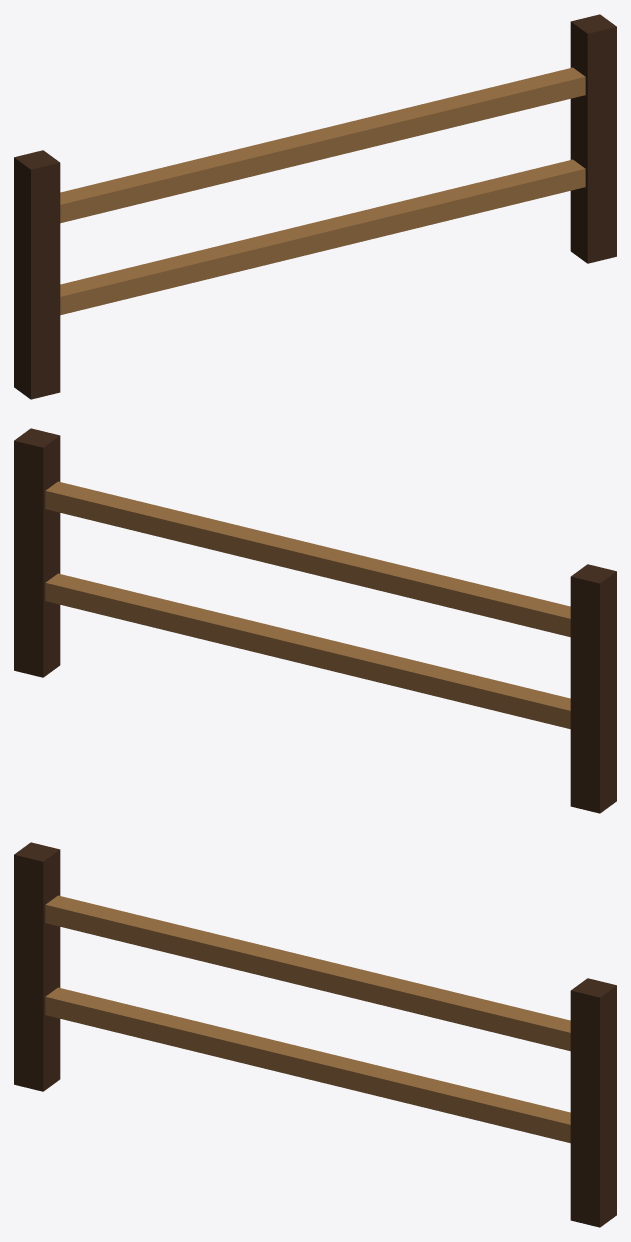
Rendered from Desert_RailFence_Simple.glb.
3 renders of one model, top to bottom at view 1: azimuth 30°, elevation 25°; view 2: azimuth 150°, elevation 25°; view 3: azimuth 330°, elevation 25°, orthographic.
Visible parts, largest first — view 1: Desert_RailFence_Simple; view 2: Desert_RailFence_Simple; view 3: Desert_RailFence_Simple.
Boxes of the visible parts, x1,y1,x2,y2 form: Desert_RailFence_Simple: (14, 14, 616, 399); Desert_RailFence_Simple: (14, 428, 616, 813); Desert_RailFence_Simple: (14, 842, 616, 1227).
Bounding box in the file's own units: 4 × 1.5 × 0.2.
